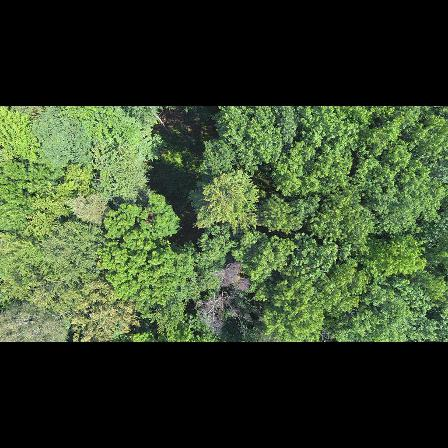Dead: (195, 293, 251, 331), (212, 262, 254, 292)
